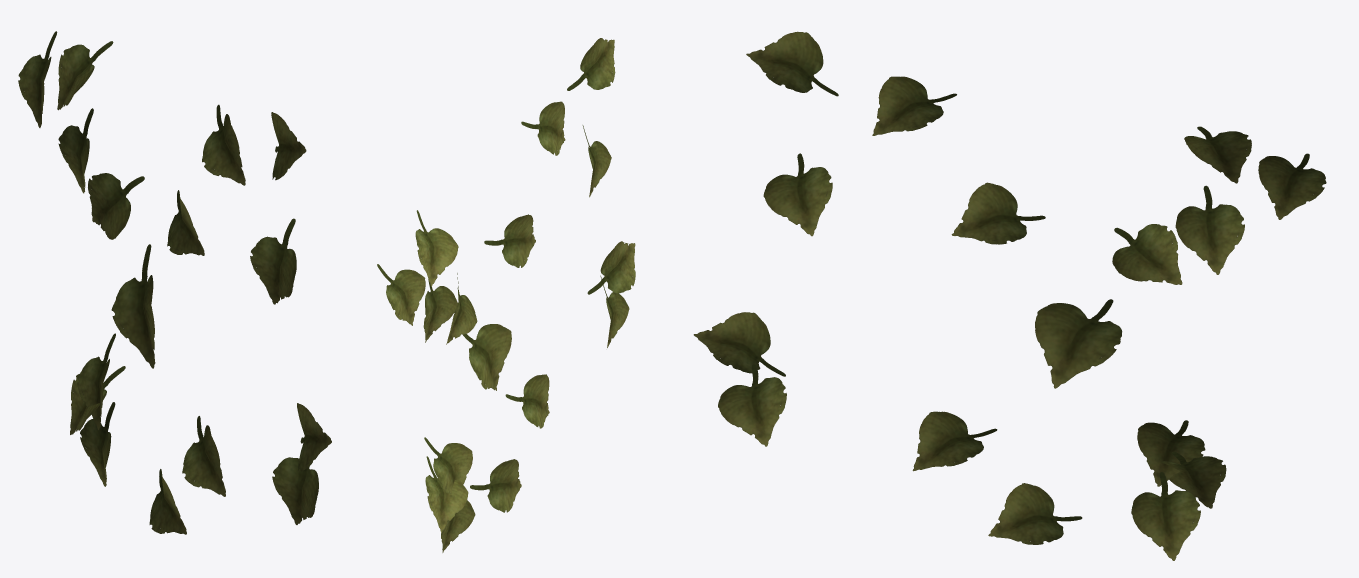
File: GroupOfLeaves.dae
The picture shows the model from 3 angles, left to right: view 1: azimuth 30°, elevation 25°; view 2: azimuth 150°, elevation 25°; view 3: azimuth 270°, elevation 25°; orthographic projection. The views are drawn at different scales.
Visible parts, largest first — view 1: GroupOfLeaves; view 2: GroupOfLeaves; view 3: GroupOfLeaves.
Boxes of the visible parts, bbox=[...] form: GroupOfLeaves: bbox=[18, 31, 331, 534]; GroupOfLeaves: bbox=[377, 38, 635, 552]; GroupOfLeaves: bbox=[693, 31, 1326, 560].
Bounding box in the file's own units: 0.1447 × 1.31 × 1.2.
